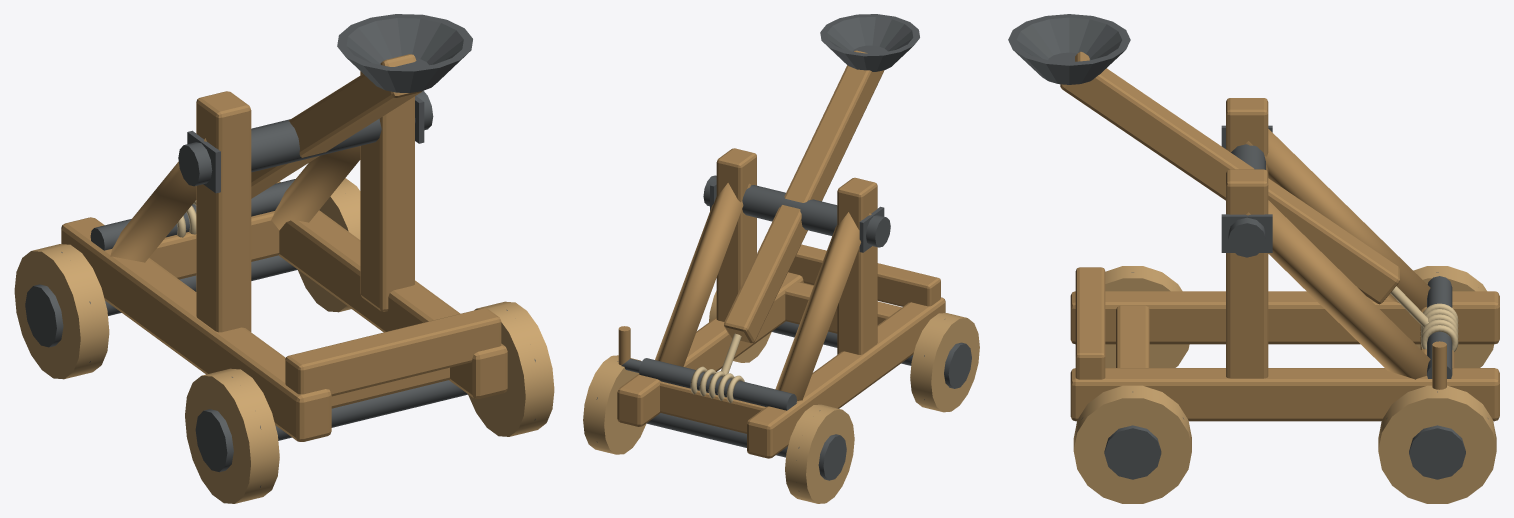
Rendered from catapult.glb.
3 views of the same model, side by side, from view 1: azimuth 30°, elevation 25°; view 2: azimuth 150°, elevation 25°; view 3: azimuth 270°, elevation 25° (orthographic). The views are drawn at different scales.
Visible parts, largest first — view 1: Catapult long chassis beam, Catapult pivot upright, Catapult forward brace, Catapult long chassis beam.001, Catapult pivot upright.001, Wooden catapult wheel.001, Wooden catapult wheel, Catapult open throwing bowl, Wooden catapult wheel.002, Raised catapult throwing arm, Catapult main pivot axle, Catapult diagonal wooden brace (+10 smaller); view 2: Raised catapult throwing arm, Catapult long chassis beam, Catapult diagonal wooden brace, Catapult diagonal wooden brace.001, Catapult pivot upright, Catapult long chassis beam.001, Wooden catapult wheel, Wooden catapult wheel.001, Catapult open throwing bowl, Catapult pivot upright.001, Wooden catapult wheel.003, Catapult main pivot axle (+10 smaller); view 3: Catapult long chassis beam.001, Raised catapult throwing arm, Catapult long chassis beam, Wooden catapult wheel.002, Wooden catapult wheel.003, Catapult diagonal wooden brace.001, Catapult pivot upright.001, Catapult open throwing bowl, Catapult diagonal wooden brace, Catapult forward brace, Wooden catapult wheel, Wooden catapult wheel hub.002 (+8 smaller).
Part boxes in pixels (left/top/right/bottom): Catapult long chassis beam: left=61, top=217, right=331, bottom=441; Catapult pivot upright: left=196, top=91, right=251, bottom=332; Catapult forward brace: left=285, top=308, right=501, bottom=396; Catapult long chassis beam.001: left=276, top=181, right=507, bottom=398; Catapult pivot upright.001: left=360, top=71, right=414, bottom=311; Wooden catapult wheel.001: left=14, top=244, right=109, bottom=379; Wooden catapult wheel: left=185, top=368, right=279, bottom=503; Catapult open throwing bowl: left=337, top=14, right=472, bottom=92; Wooden catapult wheel.002: left=468, top=301, right=554, bottom=436; Raised catapult throwing arm: left=251, top=54, right=422, bottom=198; Catapult main pivot axle: left=178, top=91, right=433, bottom=186; Catapult diagonal wooden brace: left=110, top=138, right=206, bottom=262; Raised catapult throwing arm: left=724, top=50, right=884, bottom=343; Catapult long chassis beam: left=747, top=297, right=945, bottom=458; Catapult diagonal wooden brace: left=775, top=212, right=871, bottom=400; Catapult diagonal wooden brace.001: left=655, top=183, right=750, bottom=366; Catapult pivot upright: left=837, top=177, right=877, bottom=354; Catapult long chassis beam.001: left=617, top=272, right=813, bottom=426; Wooden catapult wheel: left=910, top=313, right=979, bottom=412; Wooden catapult wheel.001: left=785, top=404, right=854, bottom=503; Catapult open throwing bowl: left=820, top=14, right=919, bottom=71; Catapult pivot upright.001: left=716, top=148, right=756, bottom=321; Wooden catapult wheel.003: left=583, top=355, right=646, bottom=454; Catapult main pivot axle: left=703, top=175, right=890, bottom=247; Catapult long chassis beam.001: left=1070, top=368, right=1499, bottom=421; Raised catapult throwing arm: left=1060, top=51, right=1399, bottom=304; Catapult long chassis beam: left=1070, top=291, right=1499, bottom=344; Wooden catapult wheel.002: left=1073, top=385, right=1191, bottom=503; Wooden catapult wheel.003: left=1378, top=385, right=1496, bottom=503; Catapult diagonal wooden brace.001: left=1246, top=200, right=1430, bottom=379; Catapult pivot upright.001: left=1226, top=169, right=1268, bottom=378; Catapult open throwing bowl: left=1008, top=14, right=1130, bottom=84; Catapult diagonal wooden brace: left=1246, top=129, right=1430, bottom=310; Catapult forward brace: left=1075, top=267, right=1105, bottom=379; Wooden catapult wheel: left=1105, top=266, right=1189, bottom=367; Wooden catapult wheel hub.002: left=1104, top=425, right=1161, bottom=479.
Bounding box in the file's own units: 1.54 × 2.08 × 2.32.
